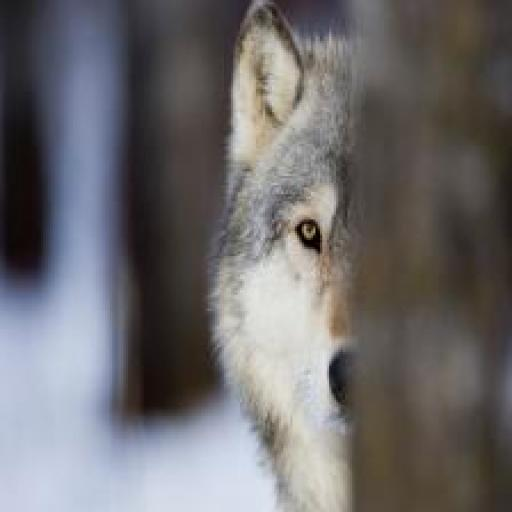wolf: (212, 4, 354, 512)
